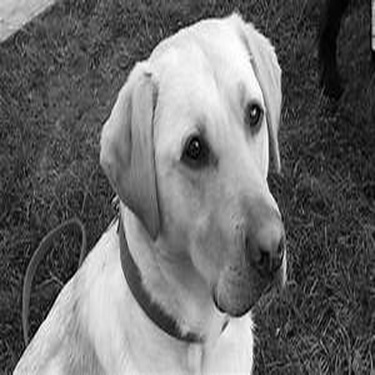dog: (1, 5, 309, 371)
